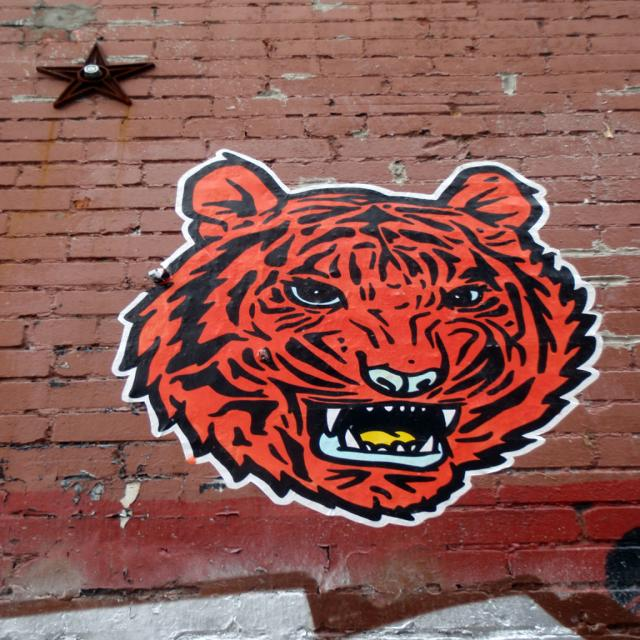Tiger: (113, 149, 602, 526)
